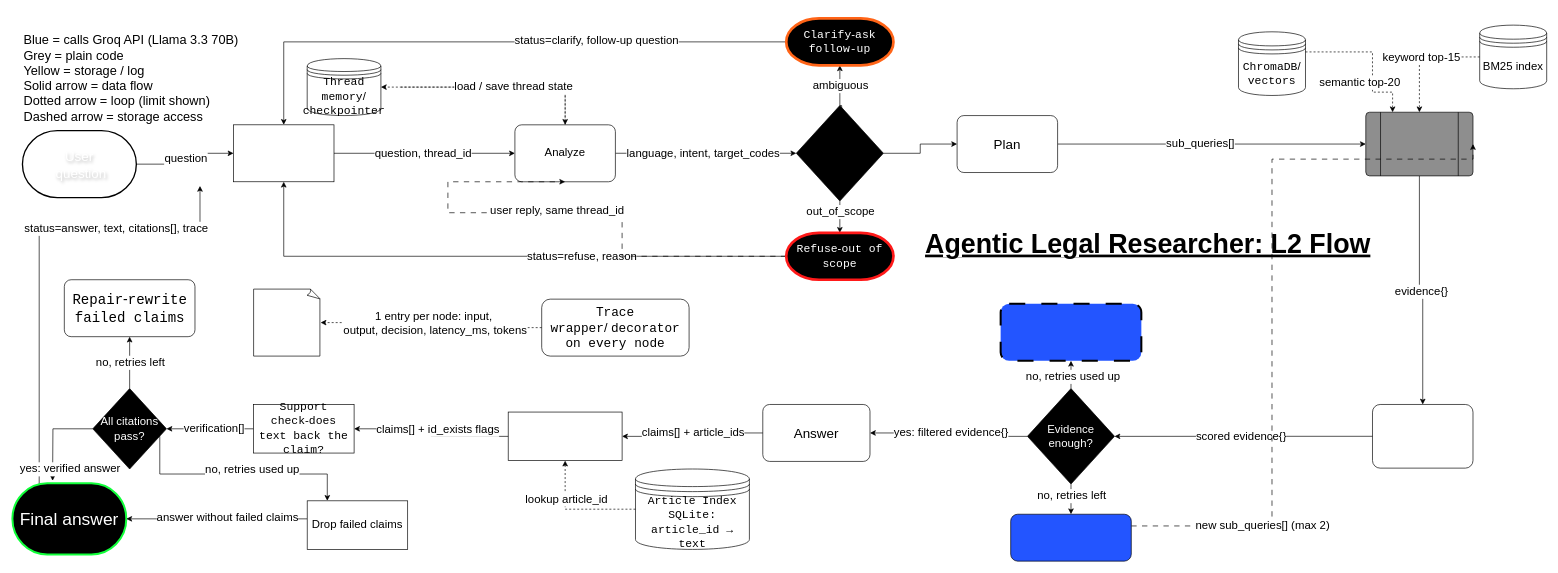
Image size: 1558x573. Some labels were removed from this diagram. The centre of each missing label's shape, as x and y in pixels:
Clear?: [839,153]
DECIDE - weak evidence,no retries left: [1070,332]
Existence check - article_id in index?: [565,436]
Grade: [1422,436]
Reformulate - new sub-queries: [1070,537]
Retrieve: [1419,144]
Streamlit UI: [283,153]
trace log / .jsonl: [287,322]
